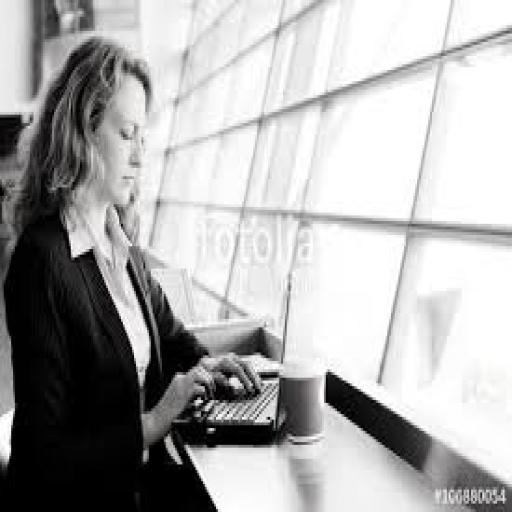using_laptop: (130, 220, 357, 482)
